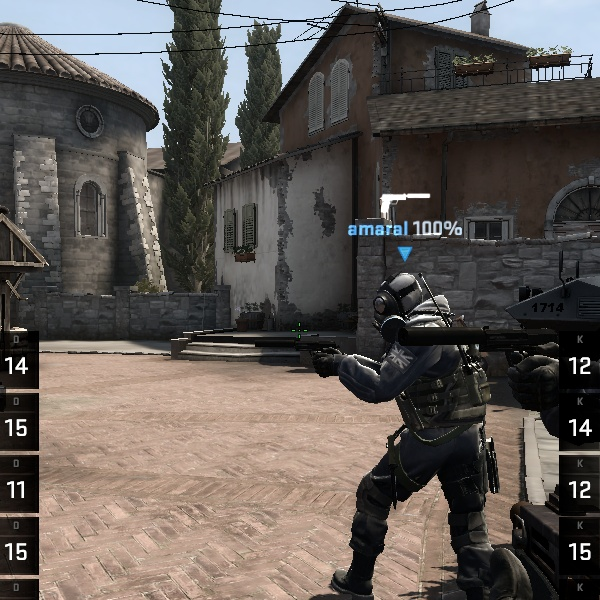ct_body: (317, 265, 511, 598)
ct_head: (368, 266, 433, 329)
